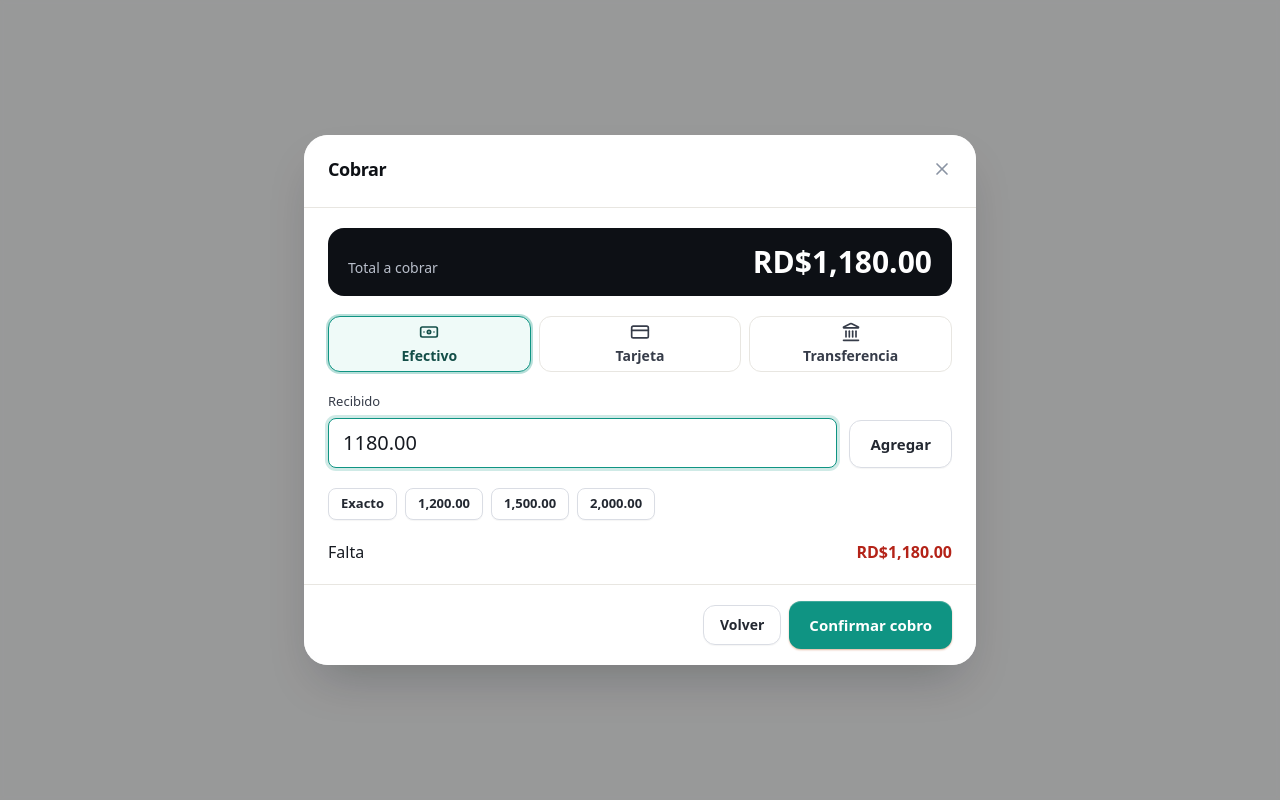
PayModal (cobro) › valida el monto
The width and height of the screenshot is (1280, 800).
Replace the text in the field labelled "Recibido" with "10.555" at [583, 443], box [328,418,837,468]
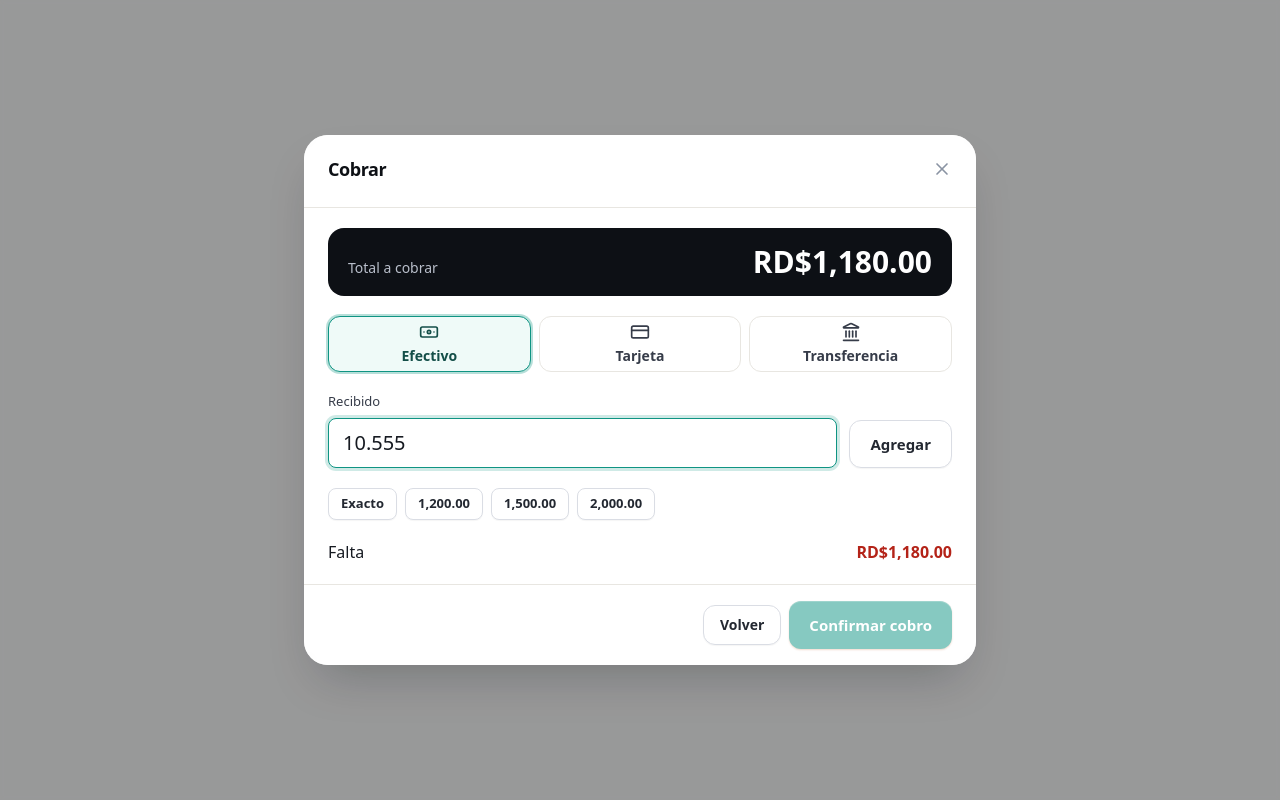
Submit the form, box [328,392,952,468]
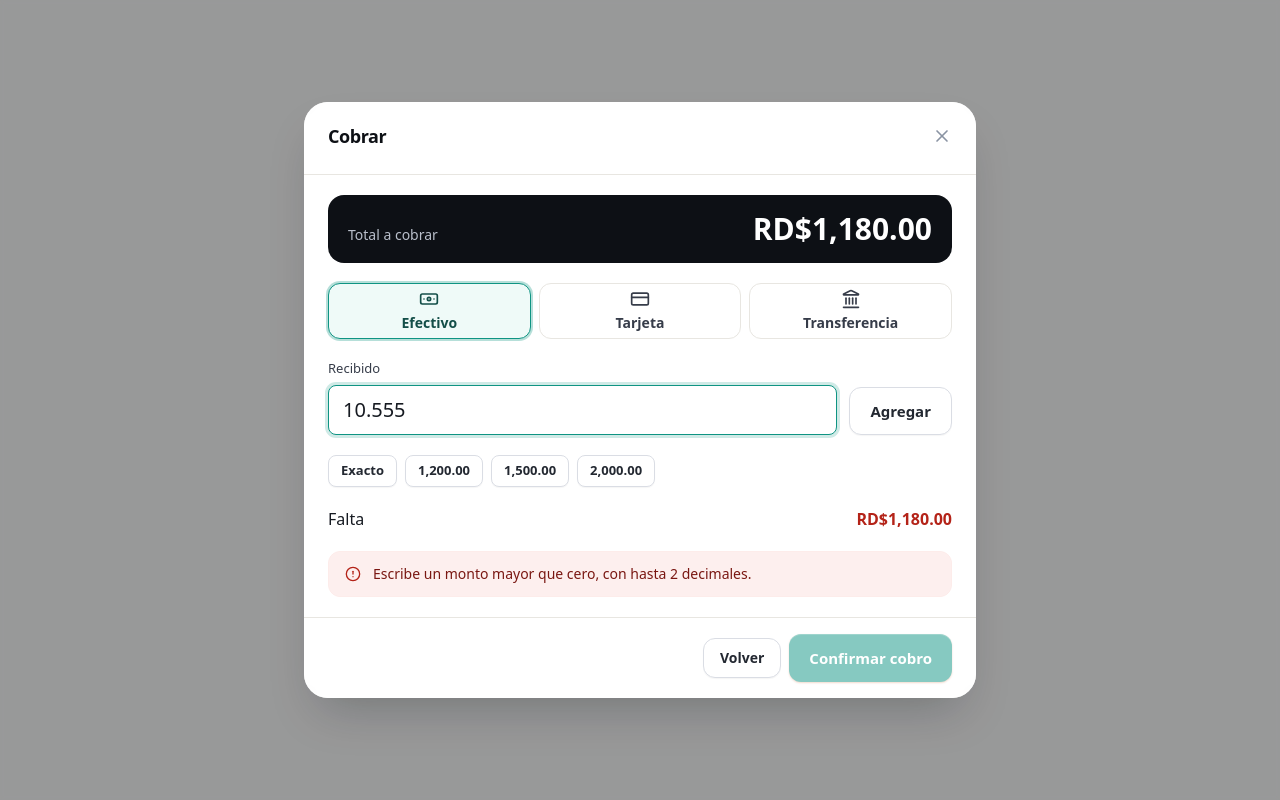
Now the text "hasta 2 decimales" is shown, box [373,564,752,583]
